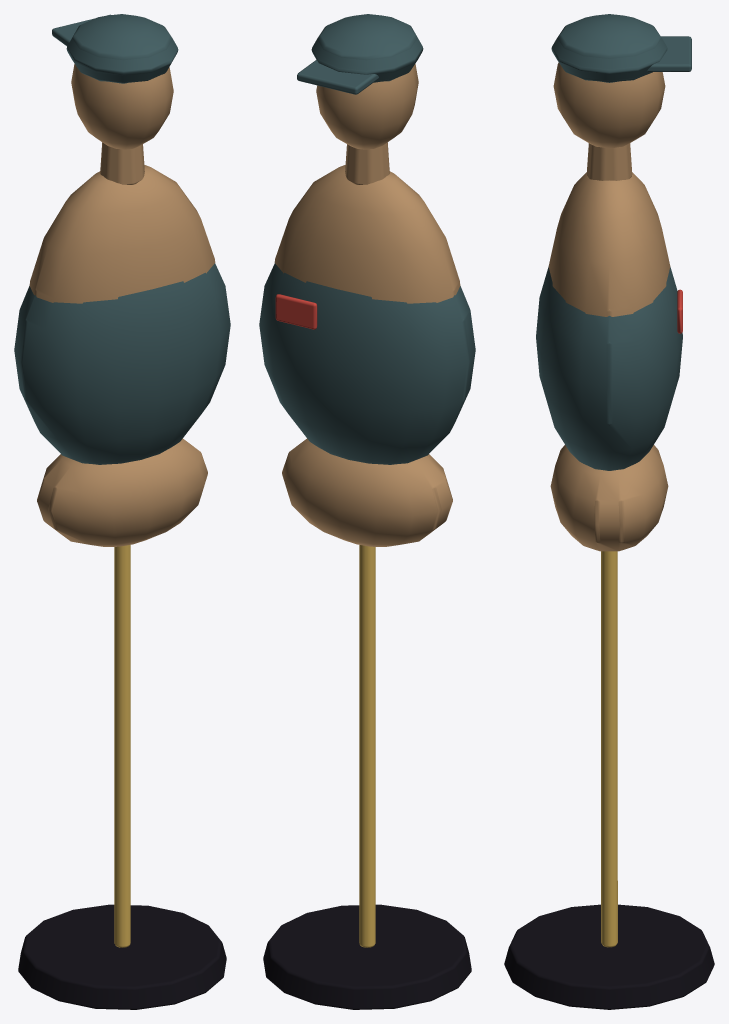
Rendered from SM_PRP_ManequimC.fbx.
3 renders of one model, left to right at view 1: azimuth 30°, elevation 25°; view 2: azimuth 150°, elevation 25°; view 3: azimuth 270°, elevation 25°, orthographic.
Visible parts, largest first — view 1: SM_PRP_ManequimC; view 2: SM_PRP_ManequimC; view 3: SM_PRP_ManequimC.
Boxes of the visible parts, x1,y1,x2,y2 form: SM_PRP_ManequimC: (14,14,230,1009); SM_PRP_ManequimC: (259,14,475,1009); SM_PRP_ManequimC: (504,14,714,1009).
Size of the model in its own units: 0.3982 by 1.77 by 0.3576.
